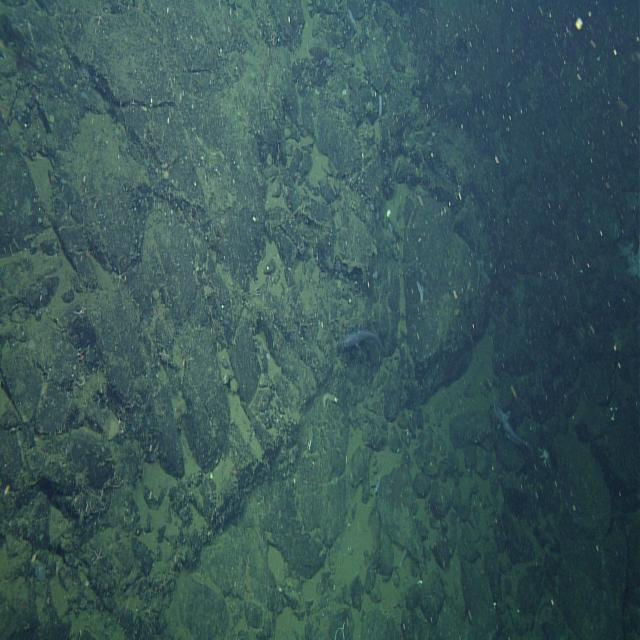Brittle Star: (108, 257, 133, 294), (88, 4, 111, 39), (87, 541, 108, 572), (71, 298, 92, 327)
Not Brittle Star: (489, 397, 541, 470), (335, 318, 389, 365), (344, 2, 360, 30), (538, 443, 552, 470), (416, 279, 426, 305), (377, 92, 385, 122)
